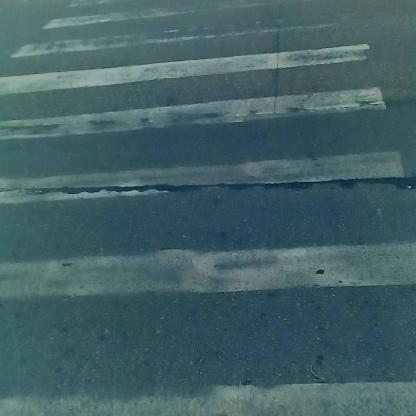crosswalk: (6, 8, 416, 416)
